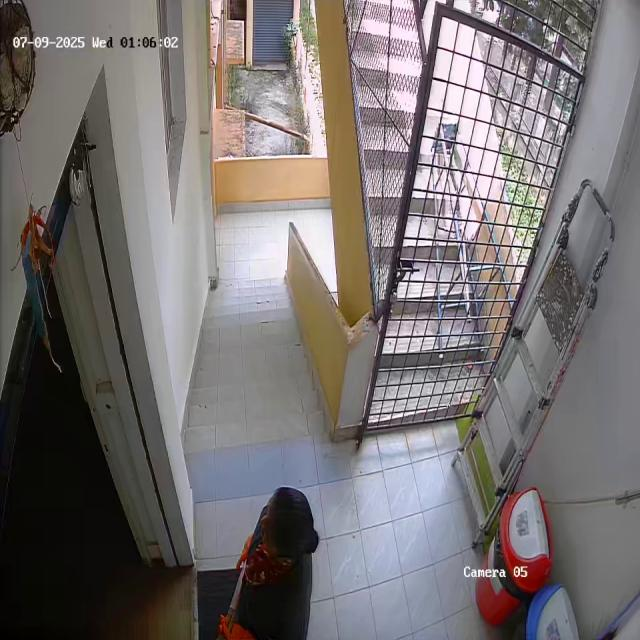person: (224, 484, 323, 640)
